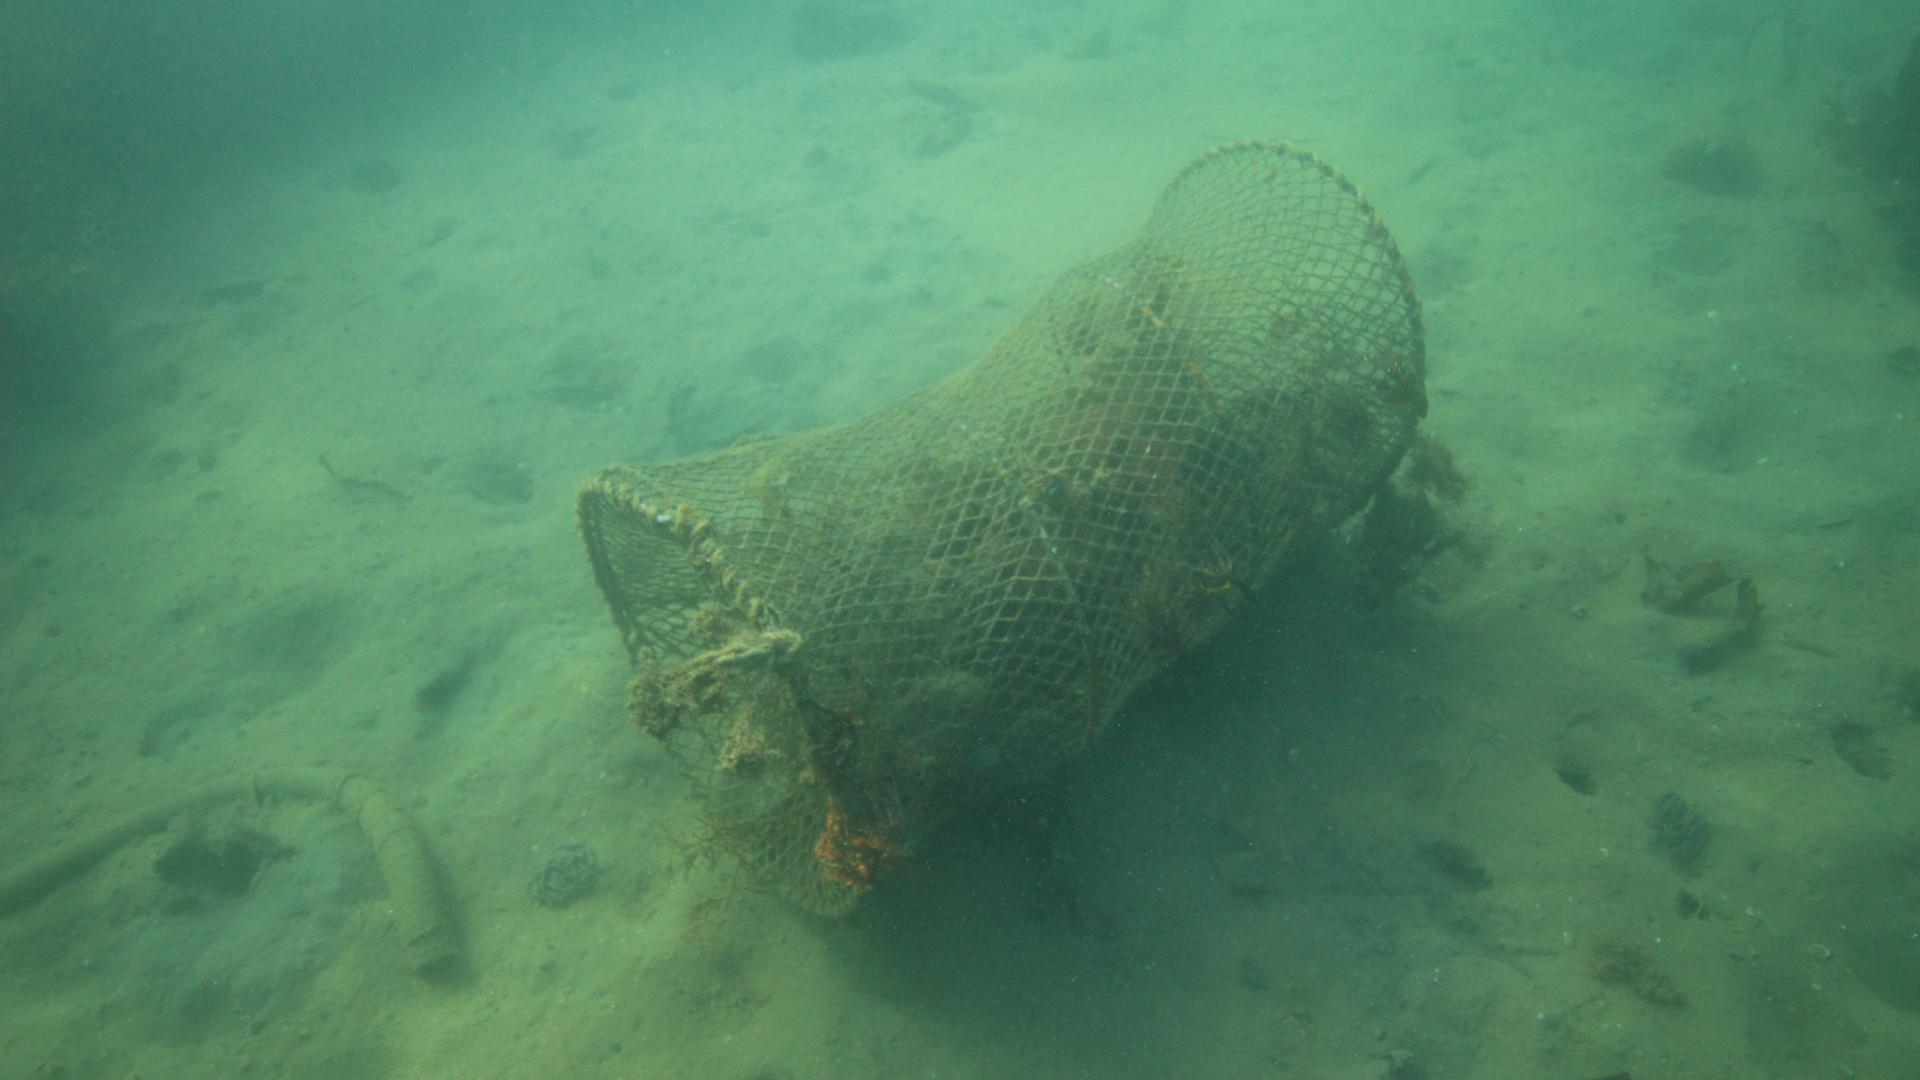spring fish trap: (575, 140, 1431, 922)
